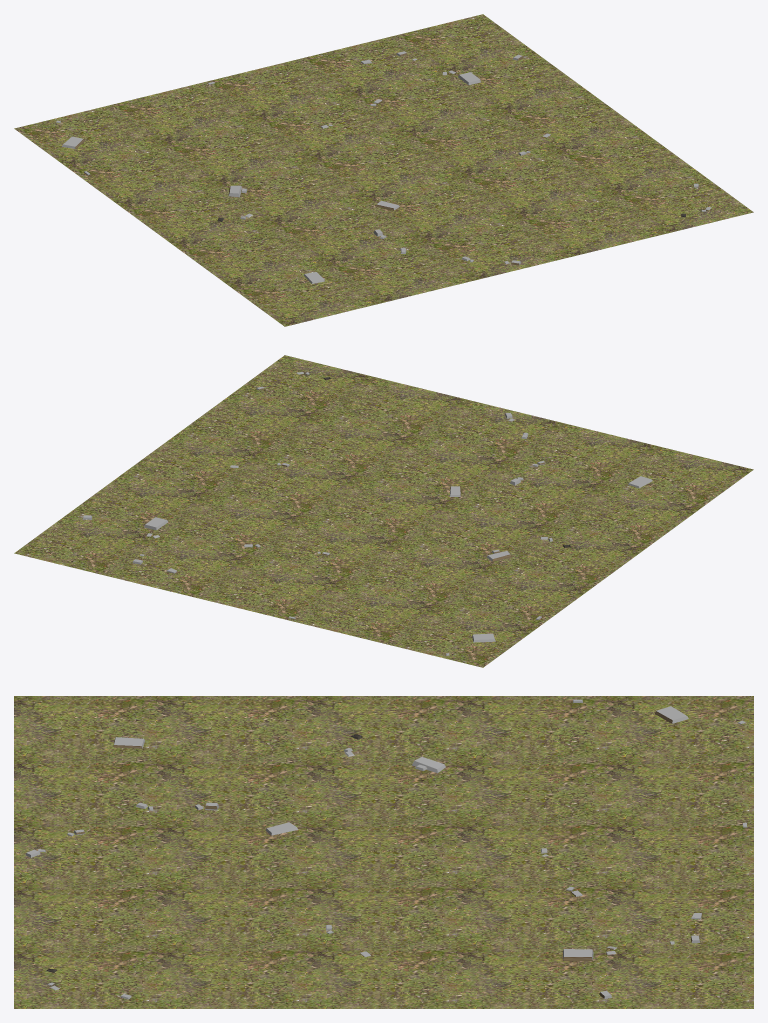
The model's file is bz_grass_01.fbx.
The picture shows the model from 3 angles, top to bottom: view 1: azimuth 30°, elevation 25°; view 2: azimuth 150°, elevation 25°; view 3: azimuth 270°, elevation 25°; orthographic projection. The views are drawn at different scales.
Visible parts, largest first — view 1: bz_grass_01; view 2: bz_grass_01; view 3: bz_grass_01.
Part boxes in pixels (left/top/right/bottom): bz_grass_01: left=14, top=14, right=753, bottom=326; bz_grass_01: left=14, top=355, right=753, bottom=667; bz_grass_01: left=14, top=696, right=753, bottom=1008.
Size of the model in its own units: 8 by 0.1106 by 8.
